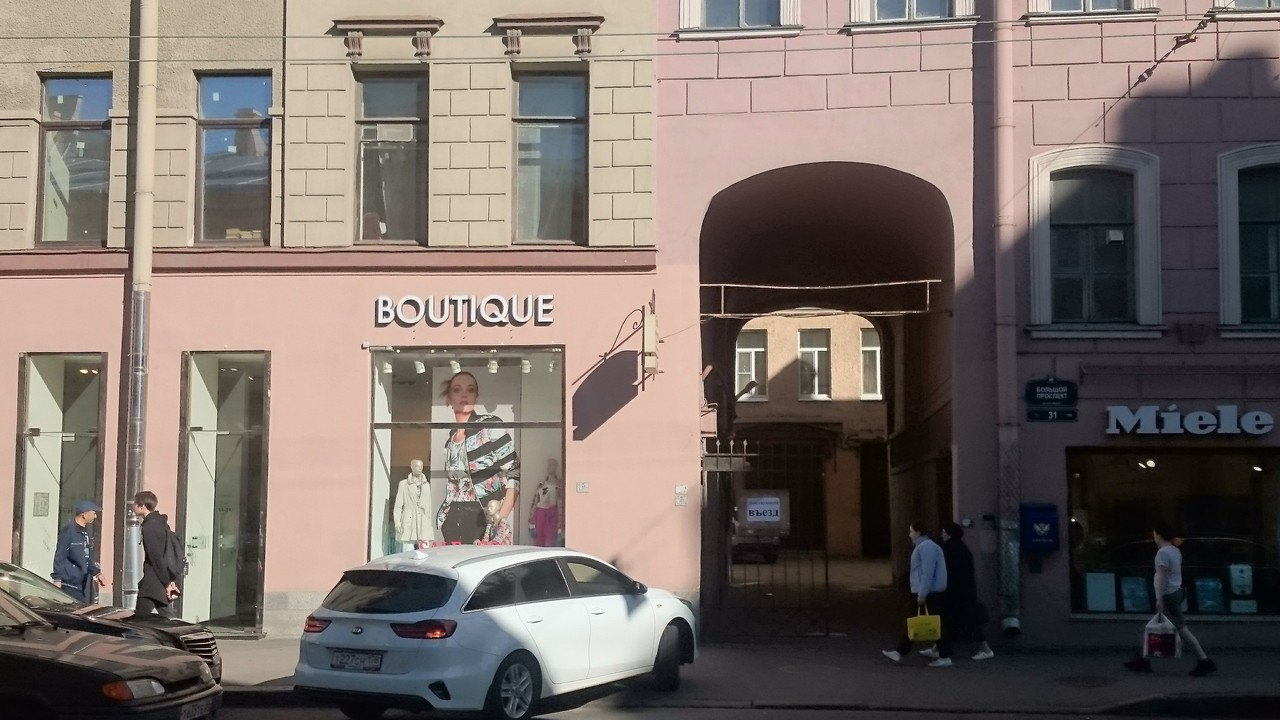arch: (697, 158, 965, 666)
signboard: (371, 346, 566, 547), (377, 296, 553, 327)
window: (185, 351, 261, 624), (25, 356, 98, 591), (32, 75, 115, 247), (1052, 166, 1136, 327), (513, 69, 589, 243), (354, 68, 427, 248), (197, 70, 272, 242)
